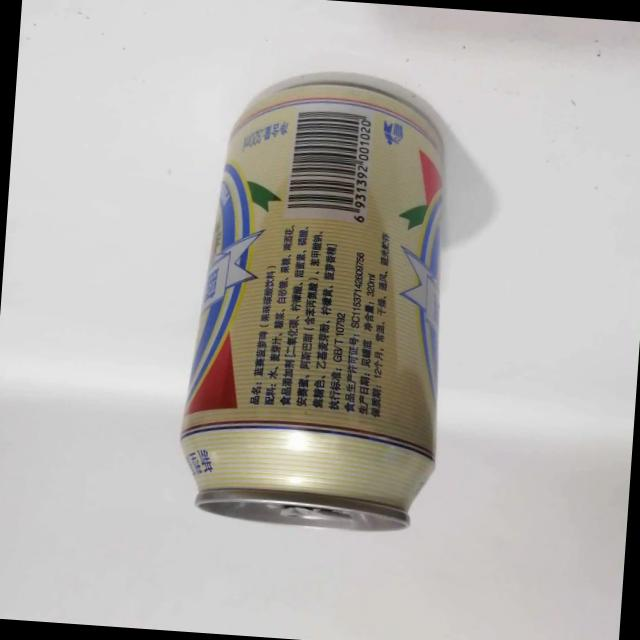can: (170, 68, 464, 540)
